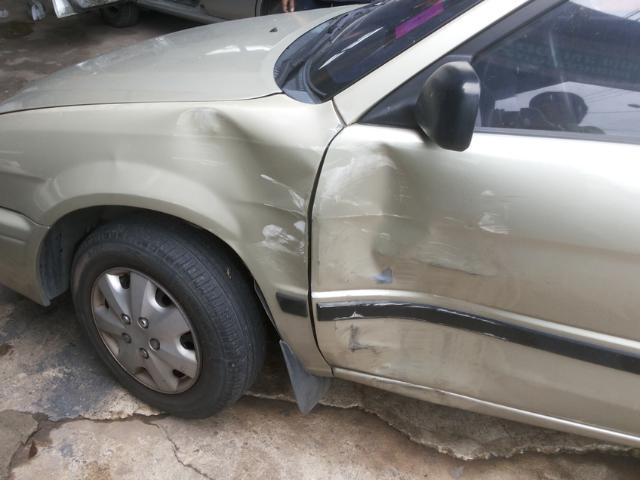Door: (308, 123, 640, 445)
Fender: (18, 113, 358, 369)
